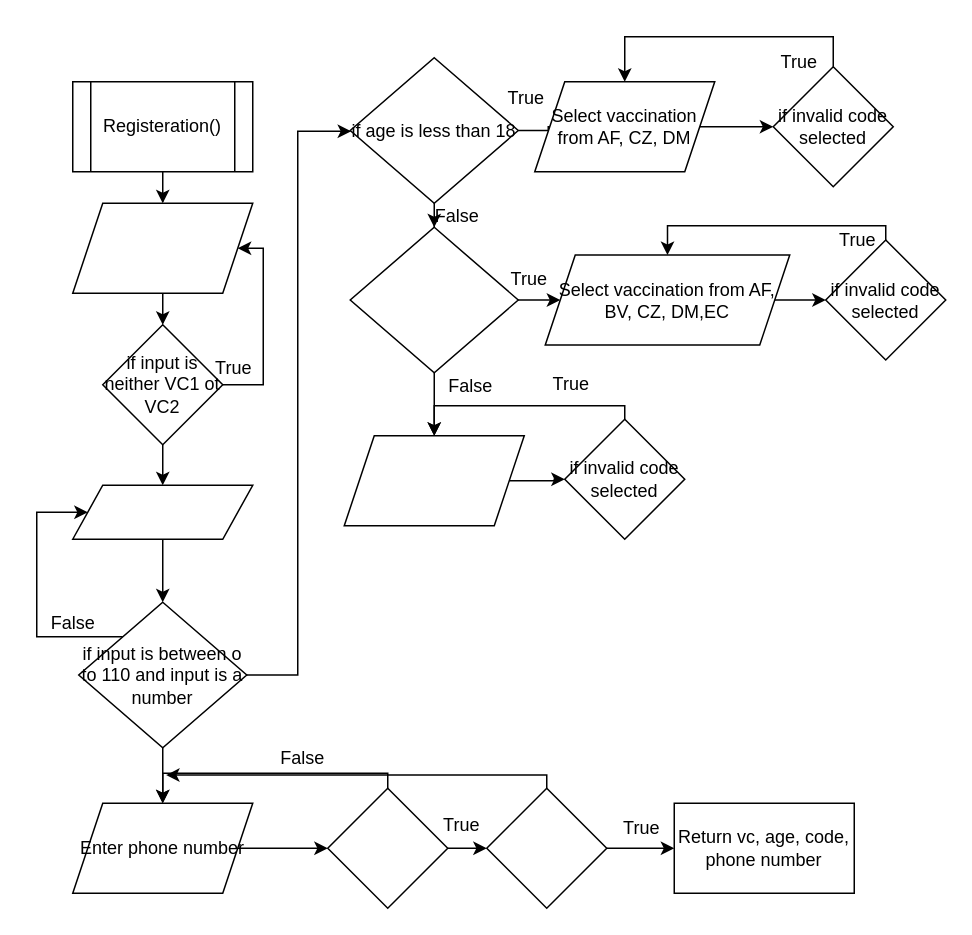
Some shapes in this 972 by 935 pixel diagram are drawn without their labels. Each missing label, with the box of its shape:
age is between 11 and 45: (349, 226, 518, 373)
Eneterd number is 10 digit: (485, 787, 607, 908)
Enter age: (71, 484, 253, 539)
if entered is number: (326, 787, 448, 908)
Select vaccine form AF, BV, DM, EC: (343, 434, 524, 526)
Selection of the vaccination center: (71, 202, 253, 293)
